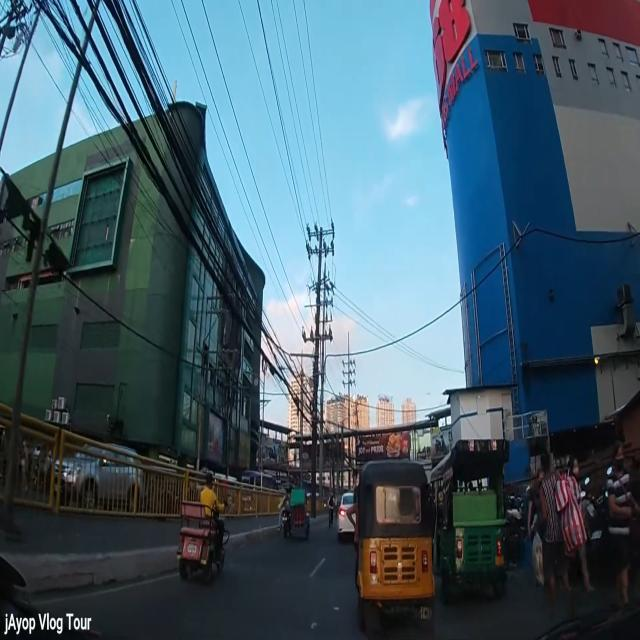bike: (327, 484, 335, 530)
car: (52, 438, 144, 514), (338, 492, 356, 540)
tricycle: (358, 460, 436, 630), (430, 438, 508, 597), (180, 470, 228, 590), (280, 478, 310, 538)
